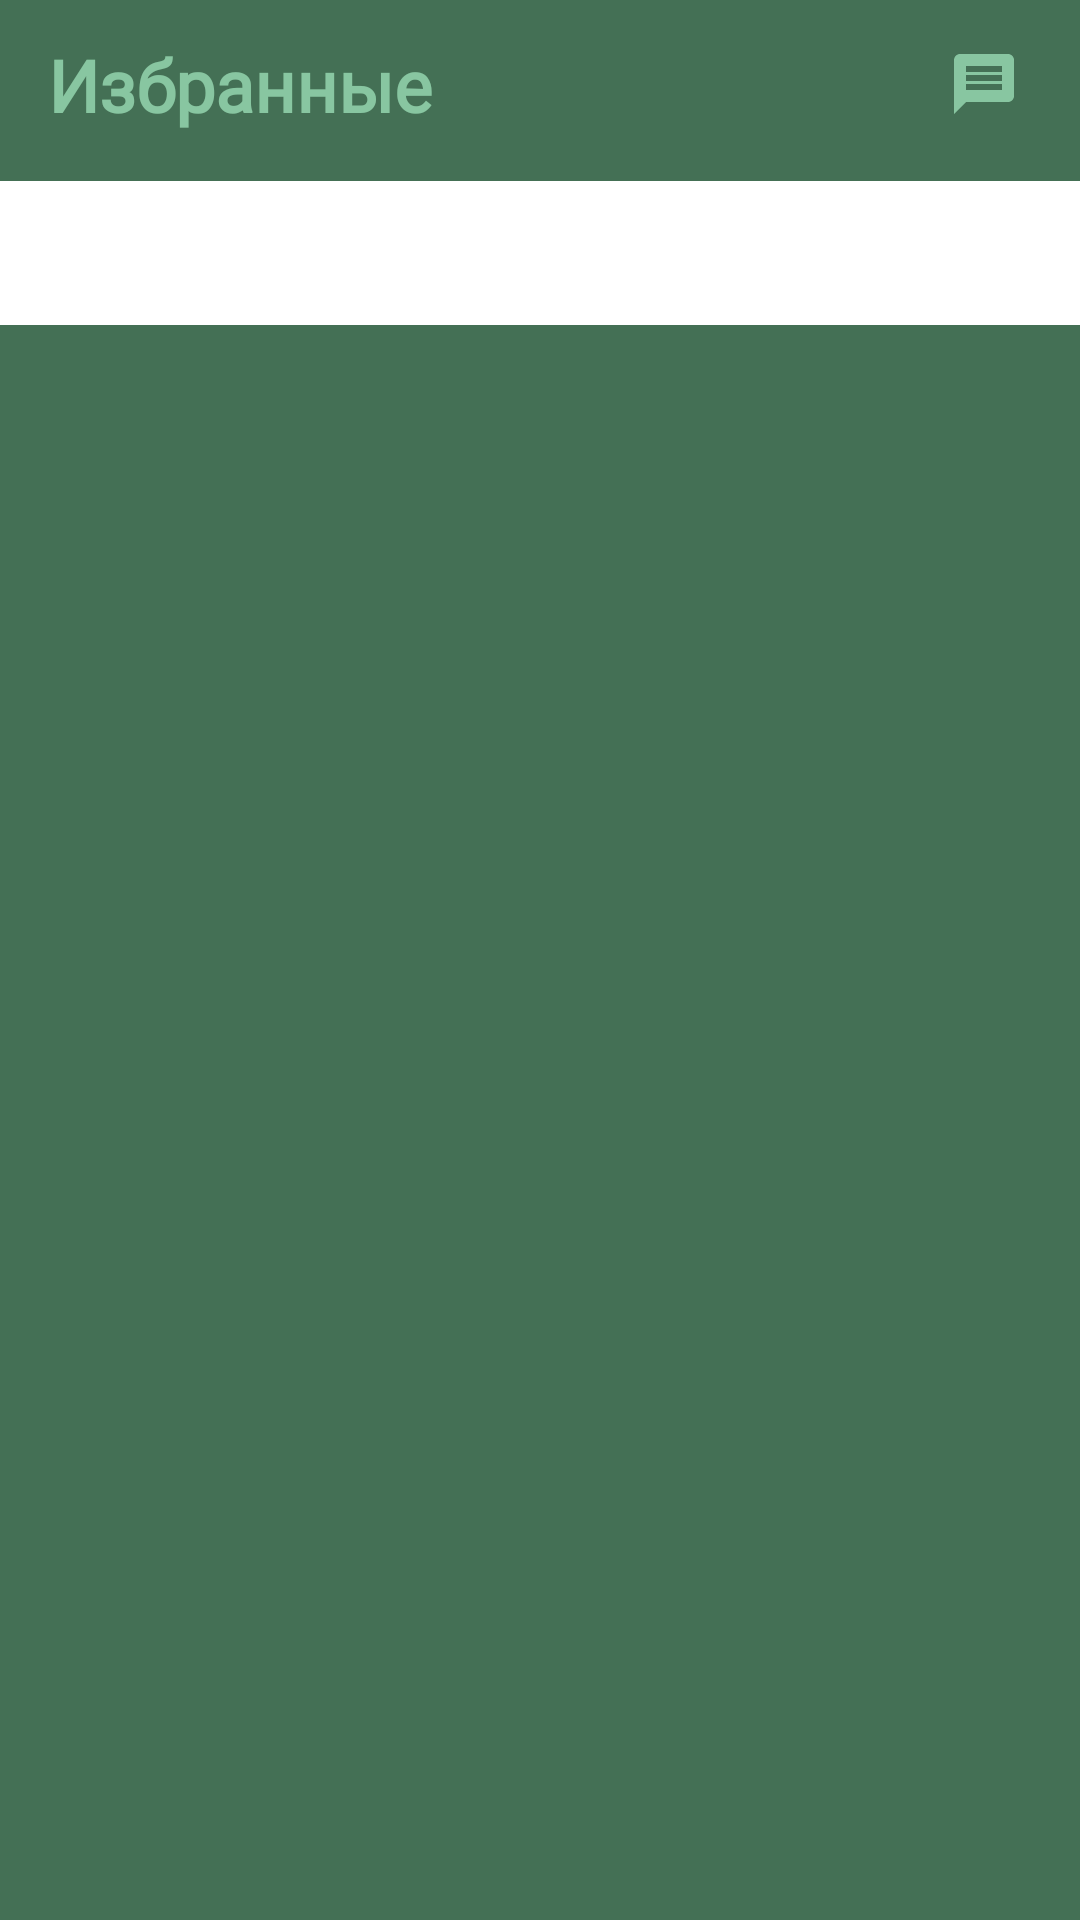

Screen size 1080x1920. Icon name, then its center in pixels as (x,y):
message: (984,84)
